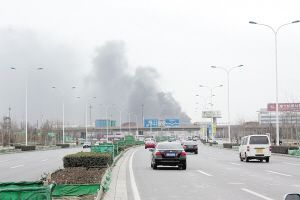smoke: (74, 49, 186, 123)
